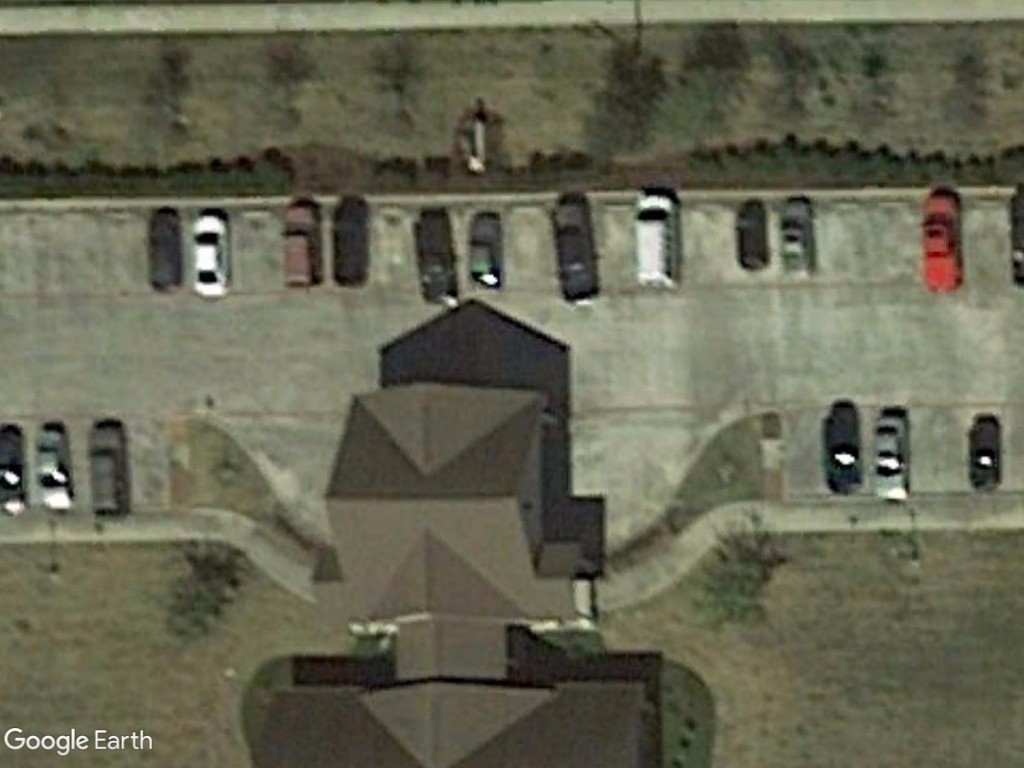car: (920, 186, 968, 297), (185, 207, 236, 303), (867, 411, 916, 506), (277, 200, 325, 292)
van: (629, 188, 684, 296)
